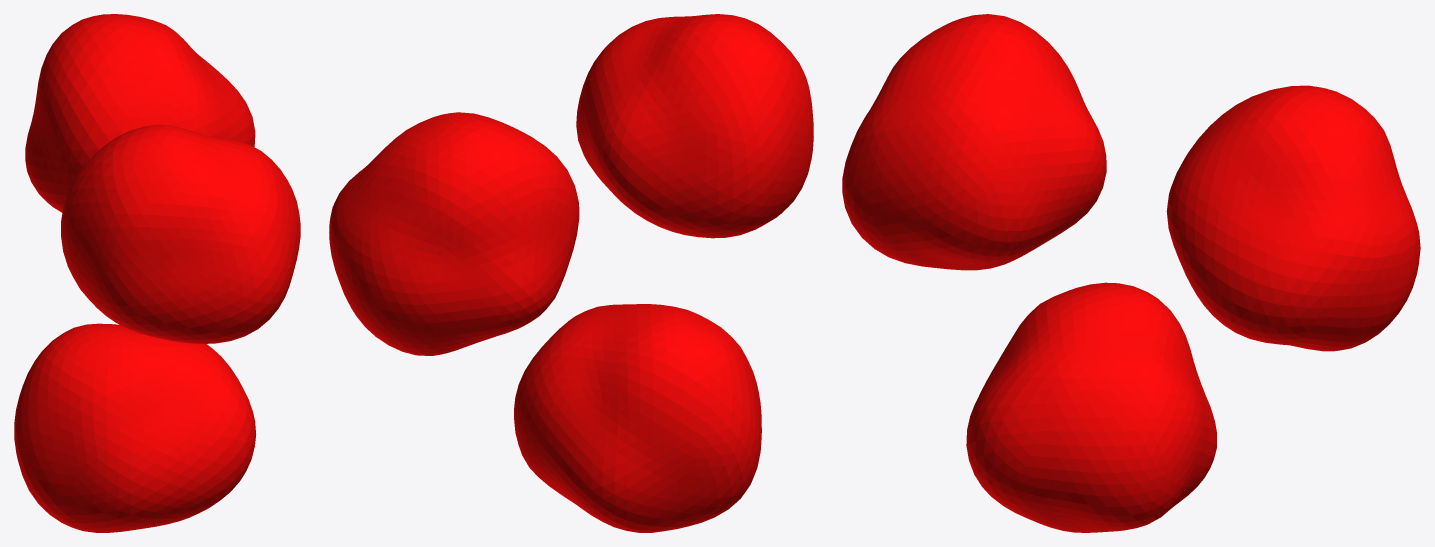
The model's file is vesicle_abc.dae.
The picture shows the model from 3 angles, left to right: view 1: azimuth 30°, elevation 25°; view 2: azimuth 150°, elevation 25°; view 3: azimuth 270°, elevation 25°; orthographic projection. The views are drawn at different scales.
Visible parts, largest first — view 1: vesicle_abc; view 2: vesicle_abc; view 3: vesicle_abc.
Boxes of the visible parts, bbox=[...] form: vesicle_abc: bbox=[14, 14, 300, 532]; vesicle_abc: bbox=[329, 14, 813, 532]; vesicle_abc: bbox=[842, 14, 1420, 532].
Bounding box in the file's own units: 633 × 859 × 923.
